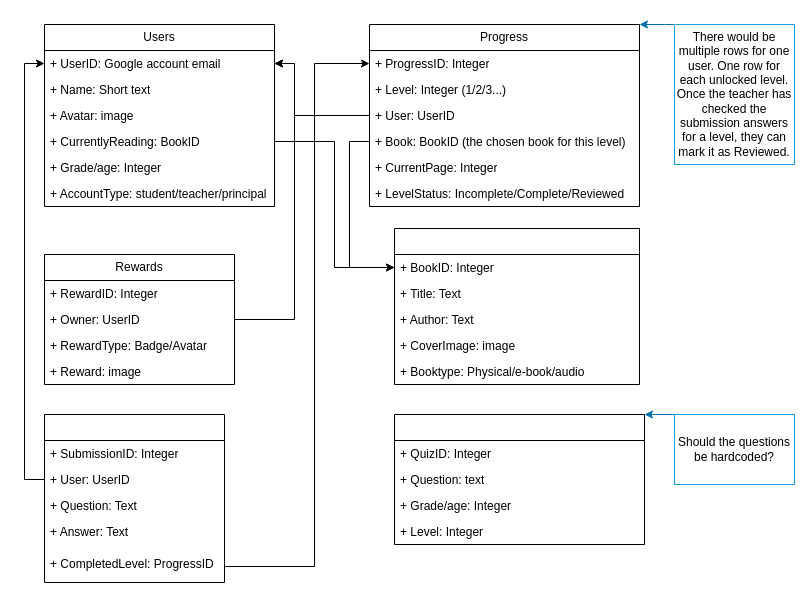
Some shapes in this 812 by 603 pixel diagram are drawn without their labels. Each missing label, with the box of its shape:
Books: (394, 228, 640, 384)
Quiz questions: (394, 414, 644, 544)
Submissions/Quiz answers: (44, 414, 224, 582)
